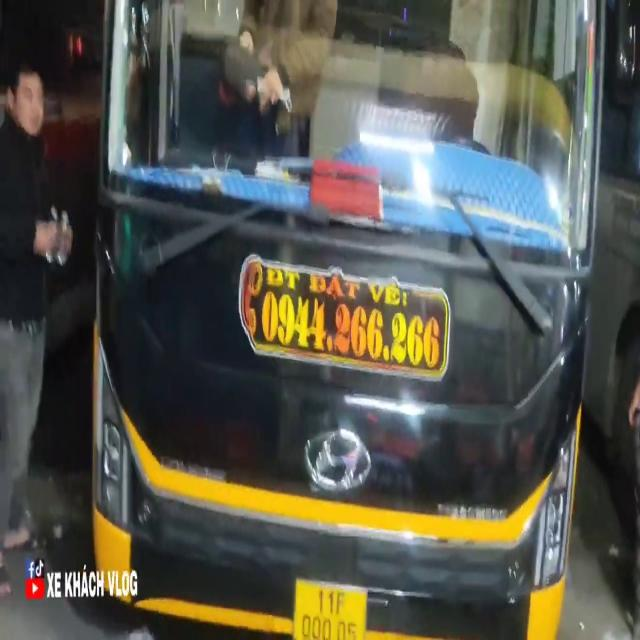bien_vang: (294, 576, 367, 640)
